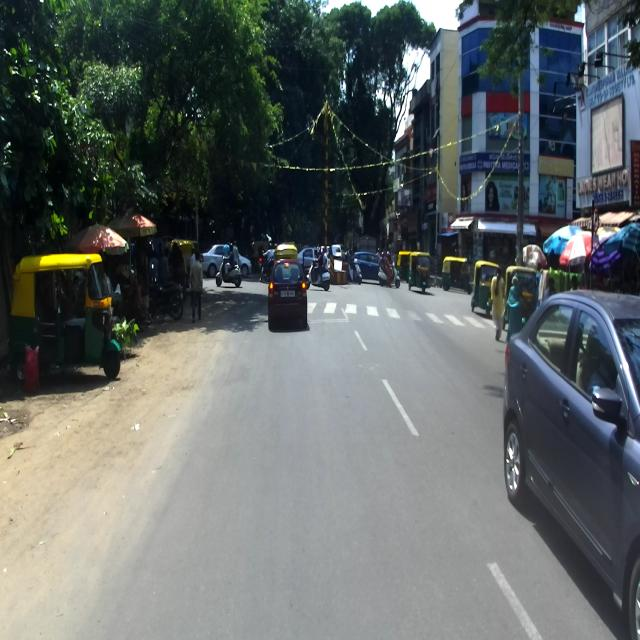auto ahead at: (16, 250, 120, 390)
car ahead at: (500, 281, 640, 640), (267, 257, 314, 331)
